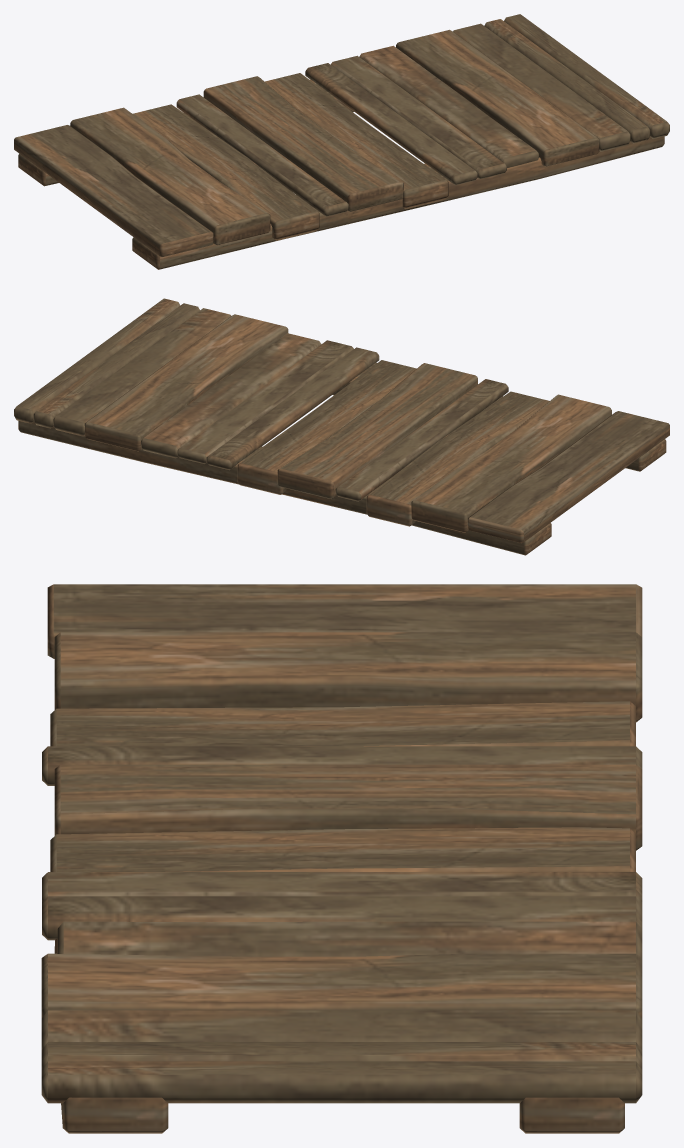
The model's file is SM_floor_02.fbx.
The picture shows the model from 3 angles, top to bottom: view 1: azimuth 30°, elevation 25°; view 2: azimuth 150°, elevation 25°; view 3: azimuth 270°, elevation 25°; orthographic projection. The views are drawn at different scales.
Visible parts, largest first — view 1: SM_floor_02_LOD0; view 2: SM_floor_02_LOD0; view 3: SM_floor_02_LOD0.
Part boxes in pixels (x1=…): SM_floor_02_LOD0: x1=14, y1=14, x2=669, y2=269; SM_floor_02_LOD0: x1=14, y1=298, x2=669, y2=555; SM_floor_02_LOD0: x1=41, y1=584, x2=642, y2=1133.
Size of the model in its own units: 400 by 204 by 24.35.
1 material, 1 textured.
